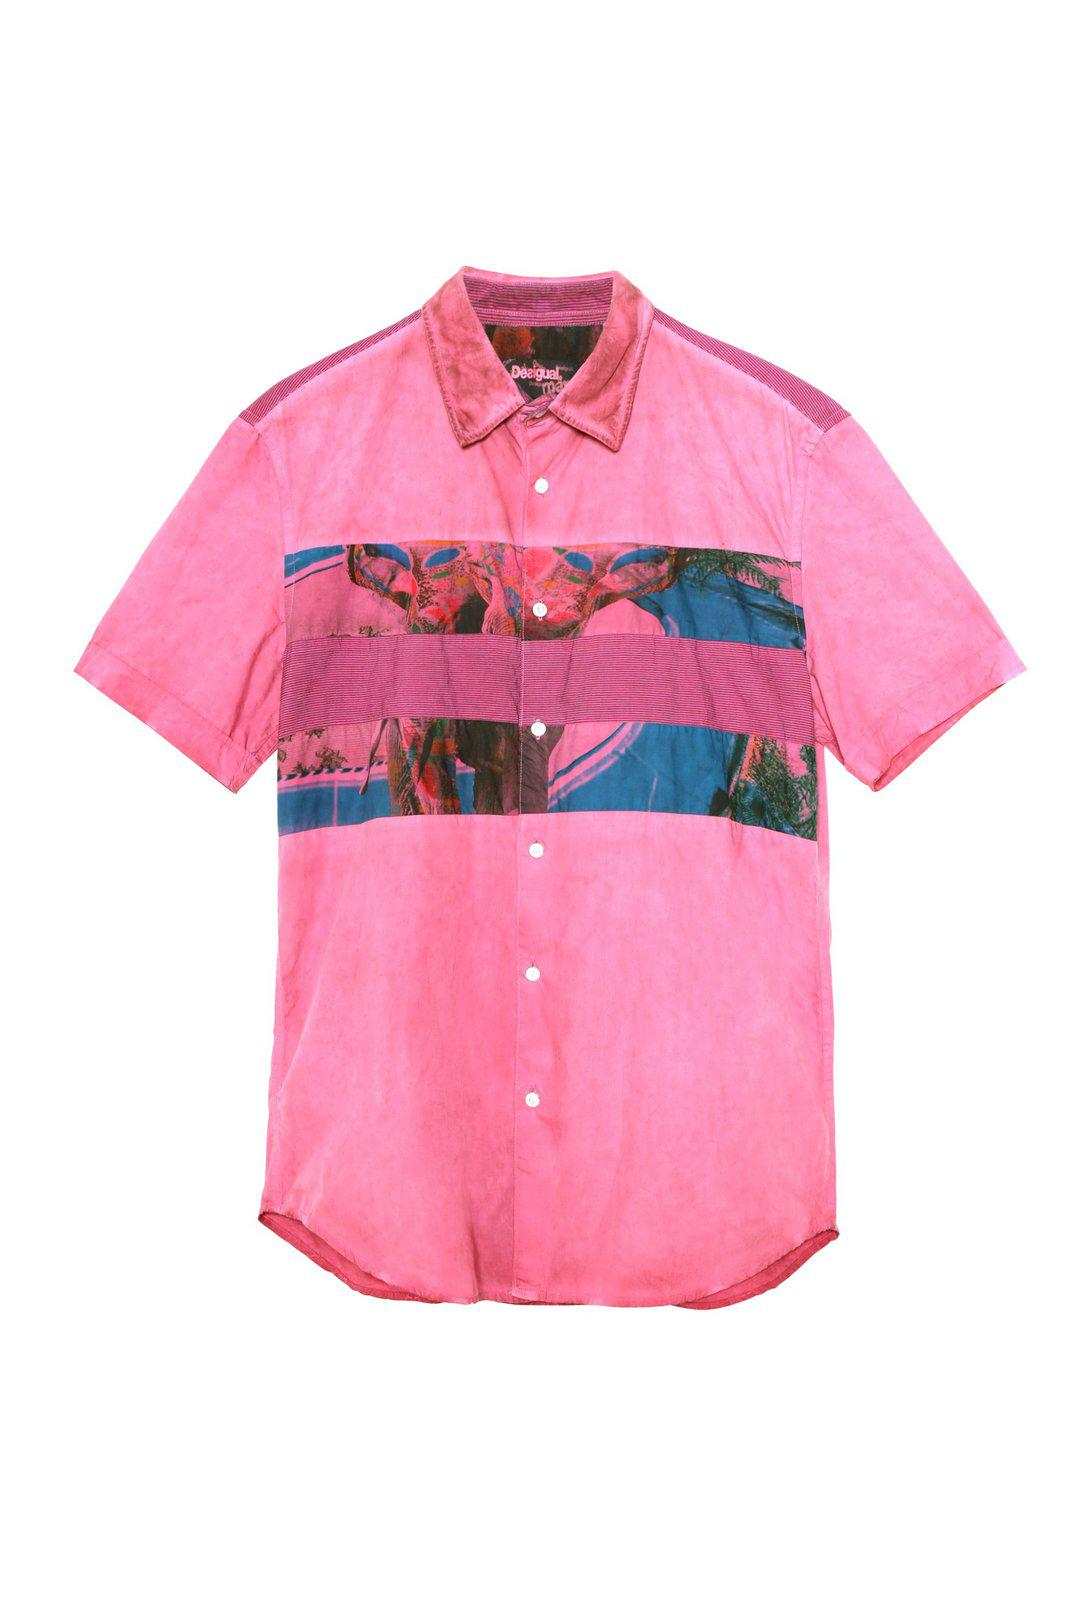teeshirt: (93, 256, 1006, 1342)
